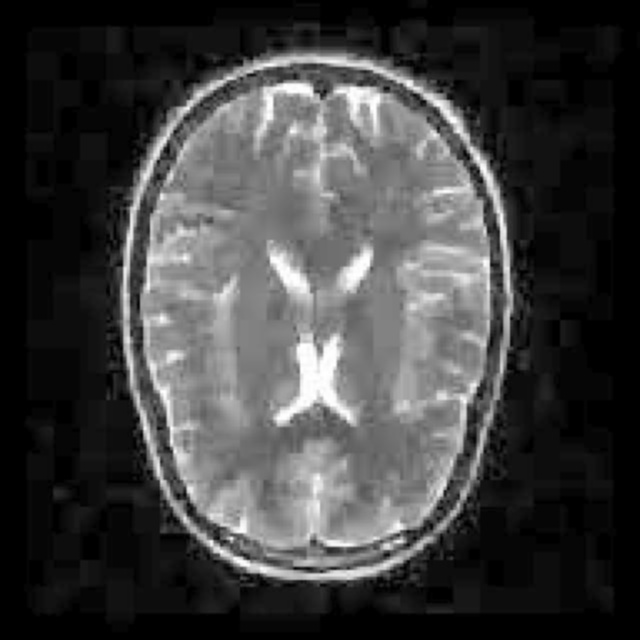glioma tumor: (173, 116, 467, 496)
